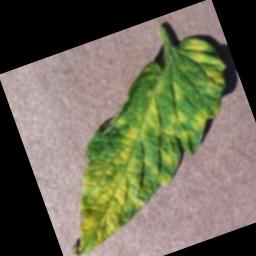Leaf_Mold: (34, 73, 220, 255), (176, 29, 233, 101), (187, 100, 226, 135), (167, 78, 189, 105)
